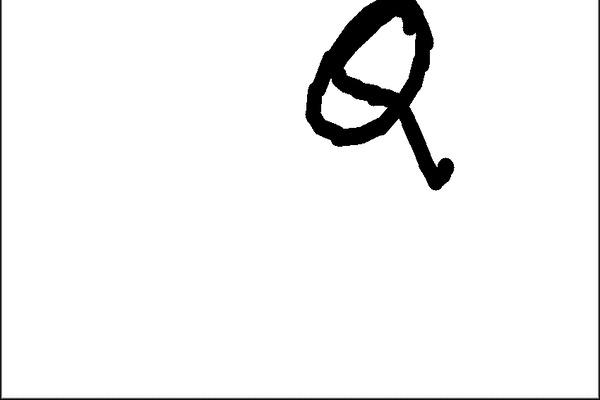Q: (291, 0, 466, 196)
